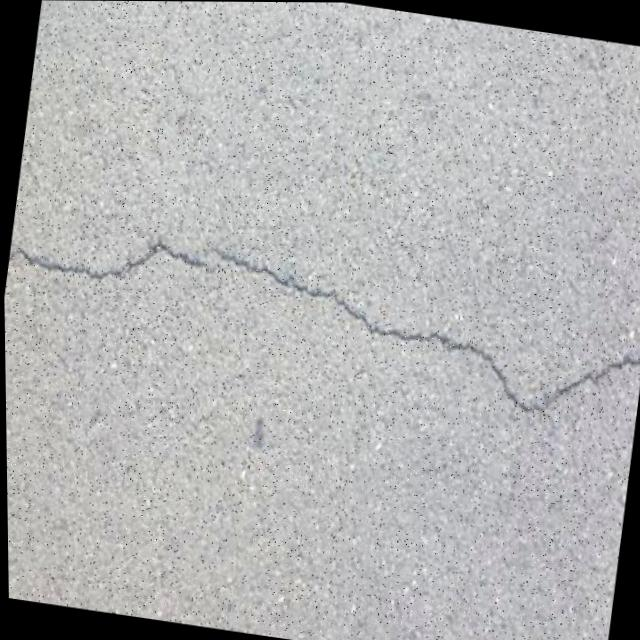Crack: (2, 212, 640, 445)
